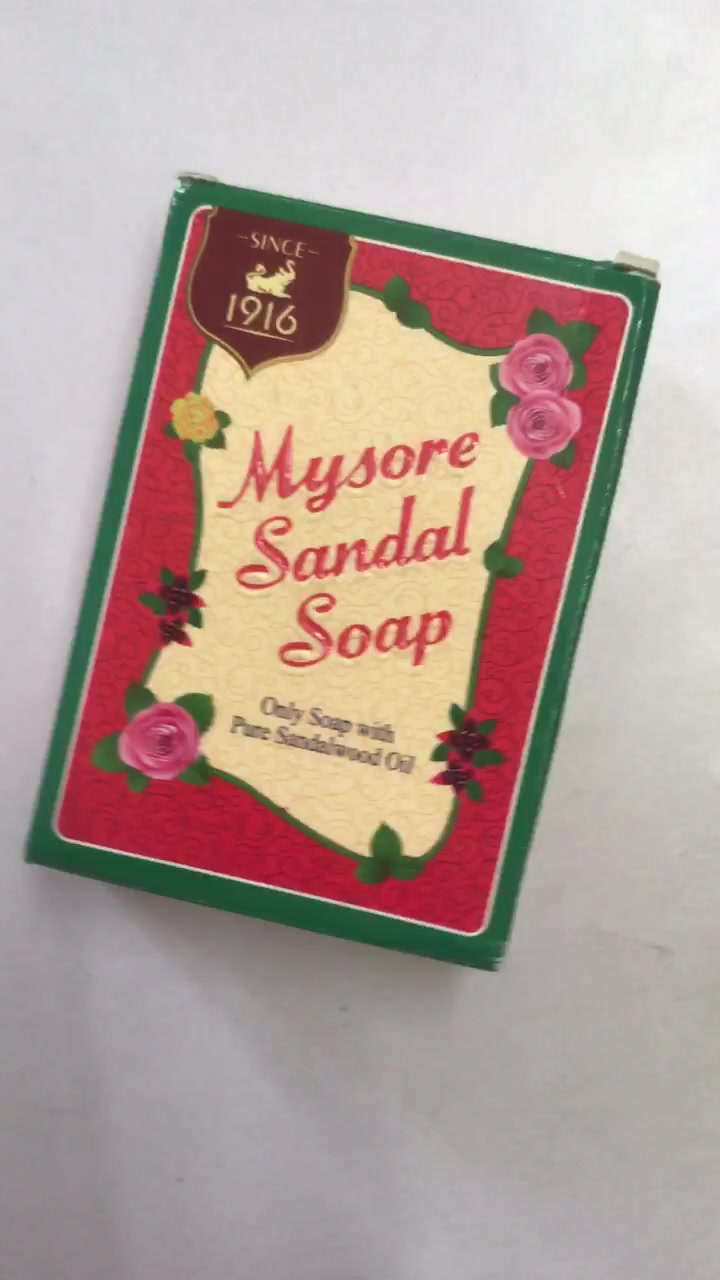mysore sandal soap: (26, 181, 660, 959)
